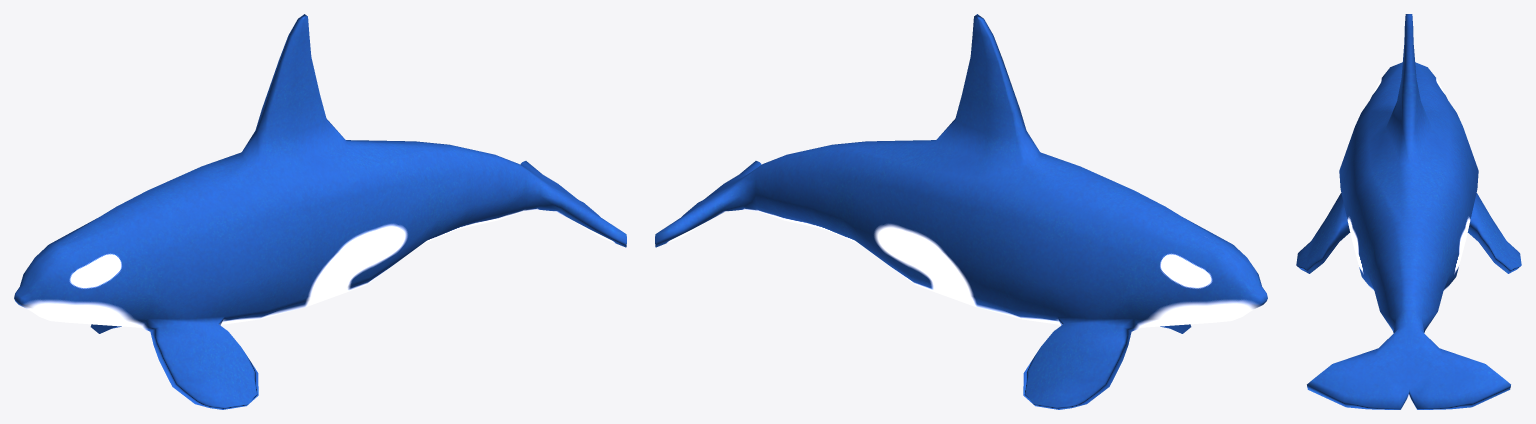
The model's file is Finn.glb.
3 views of the same model, side by side, from view 1: azimuth 30°, elevation 25°; view 2: azimuth 150°, elevation 25°; view 3: azimuth 270°, elevation 25° (orthographic). The views are drawn at different scales.
Parts seen in each view (by area): view 1: pCube1; view 2: pCube1; view 3: pCube1.
Boxes of the visible parts, x1,y1,x2,y2 form: pCube1: [14, 14, 626, 409]; pCube1: [655, 14, 1267, 409]; pCube1: [1296, 14, 1521, 409].
Bounding box in the file's own units: 9.32 × 4.99 × 3.29.
Materials: 1 (1 with a texture image).
